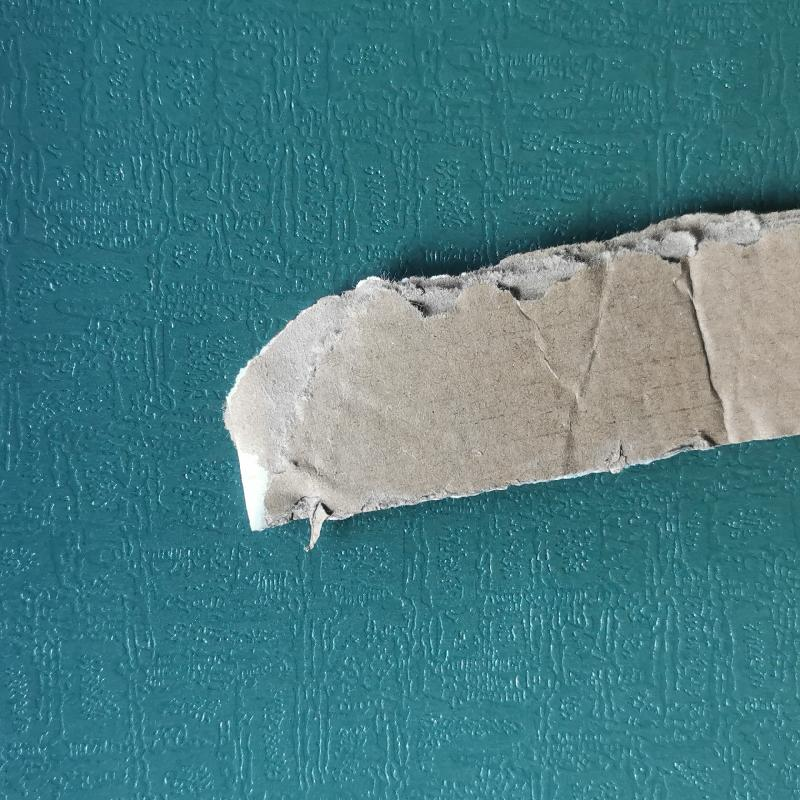boxes: (198, 199, 800, 542)
